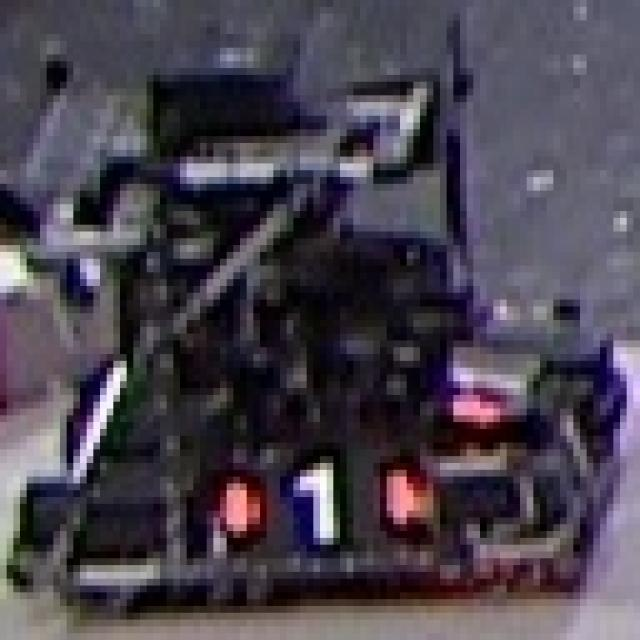R1: (193, 432, 420, 555), (420, 320, 540, 443)
